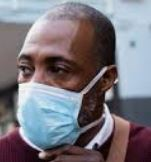with_facemask: (14, 79, 98, 152)
